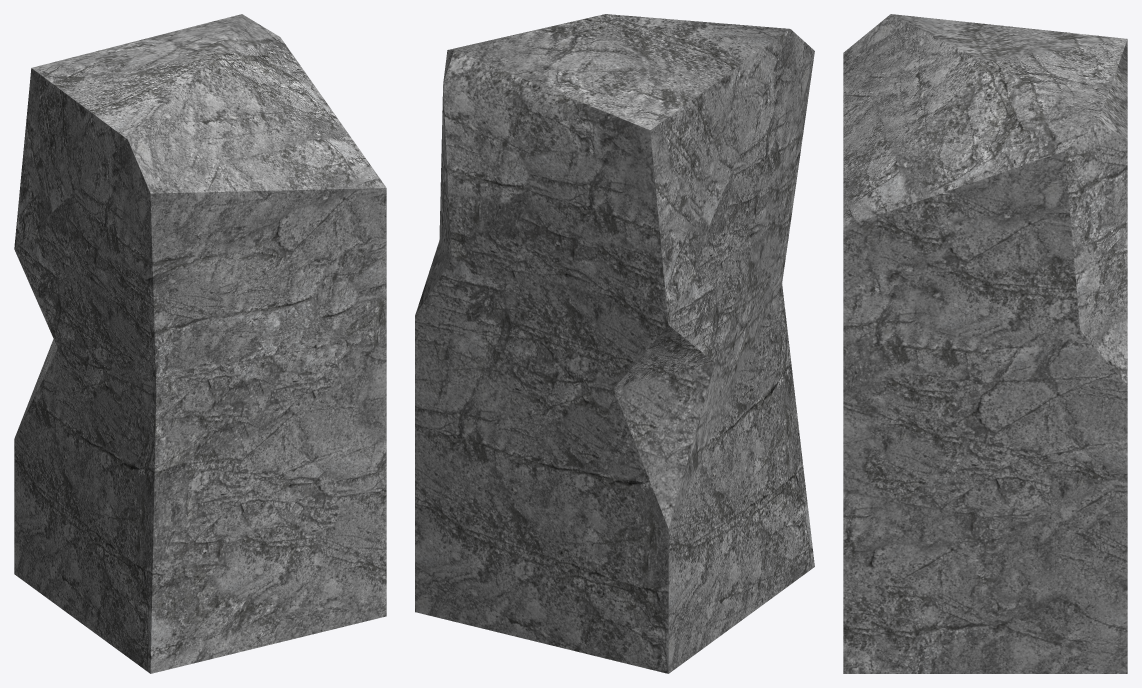
Rendered from materials_3_pillar_9.fbx.
3 views of the same model, side by side, from view 1: azimuth 30°, elevation 25°; view 2: azimuth 150°, elevation 25°; view 3: azimuth 270°, elevation 25° (orthographic). The views are drawn at different scales.
Parts seen in each view (by area): view 1: materials_3_pillar_9; view 2: materials_3_pillar_9; view 3: materials_3_pillar_9.
Boxes of the visible parts, bbox=[...] form: materials_3_pillar_9: bbox=[14, 14, 386, 673]; materials_3_pillar_9: bbox=[415, 14, 814, 673]; materials_3_pillar_9: bbox=[843, 14, 1127, 673].
Size of the model in its own units: 69.21 by 149 by 69.21.
